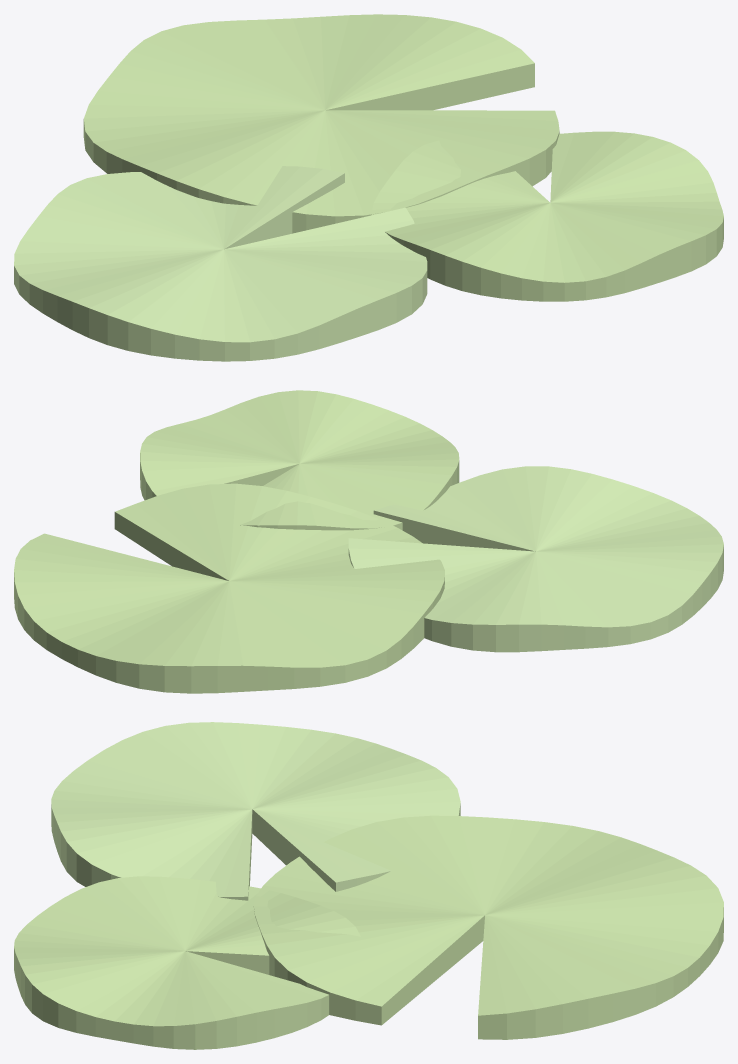
The model's file is lily_pad_cluster.glb.
3 renders of one model, top to bottom at view 1: azimuth 30°, elevation 25°; view 2: azimuth 150°, elevation 25°; view 3: azimuth 270°, elevation 25°, orthographic. The views are drawn at different scales.
Parts seen in each view (by area): view 1: lily_pad_cluster_02, lily_pad_cluster_00, lily_pad_cluster_01; view 2: lily_pad_cluster_02, lily_pad_cluster_00, lily_pad_cluster_01; view 3: lily_pad_cluster_02, lily_pad_cluster_00, lily_pad_cluster_01.
Boxes of the visible parts, <box> form: lily_pad_cluster_02: <box>83,14,559,233</box>; lily_pad_cluster_00: <box>14,166,427,361</box>; lily_pad_cluster_01: <box>372,131,723,301</box>; lily_pad_cluster_02: <box>14,483,444,693</box>; lily_pad_cluster_00: <box>348,466,723,652</box>; lily_pad_cluster_01: <box>140,390,459,530</box>; lily_pad_cluster_02: <box>253,815,723,1039</box>; lily_pad_cluster_00: <box>51,722,460,900</box>; lily_pad_cluster_01: <box>14,876,360,1049</box>.
Size of the model in its own units: 1.6 by 0.074 by 1.59.
